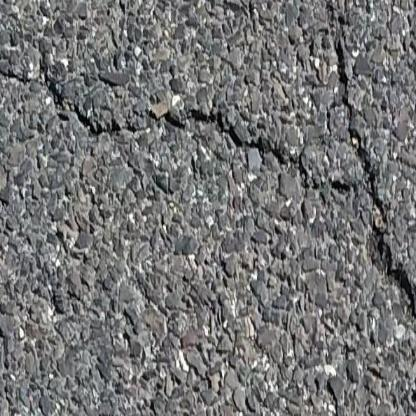Cracks: (0, 60, 410, 230), (296, 0, 402, 232), (0, 13, 127, 156), (343, 170, 416, 367)
